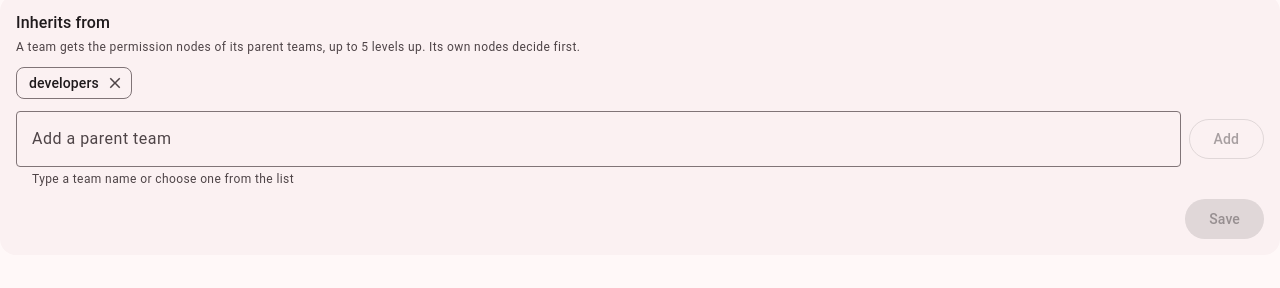
Test: TeamParentsCard › saving › shows the depth message of a 409 on the card
The width and height of the screenshot is (1280, 288).
Type "staff" into the dropdown labelled "Add a parent team" at point(598, 139), box [16, 111, 1181, 167]
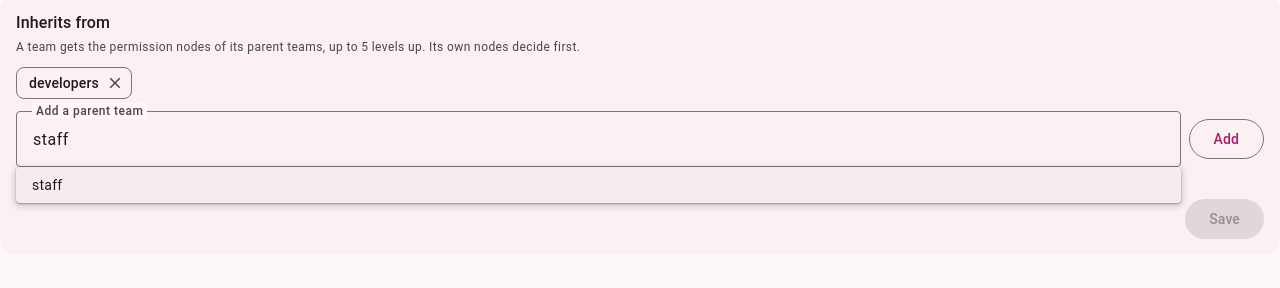
Press Enter in the dropdown labelled "Add a parent team", box [16, 111, 1181, 167]
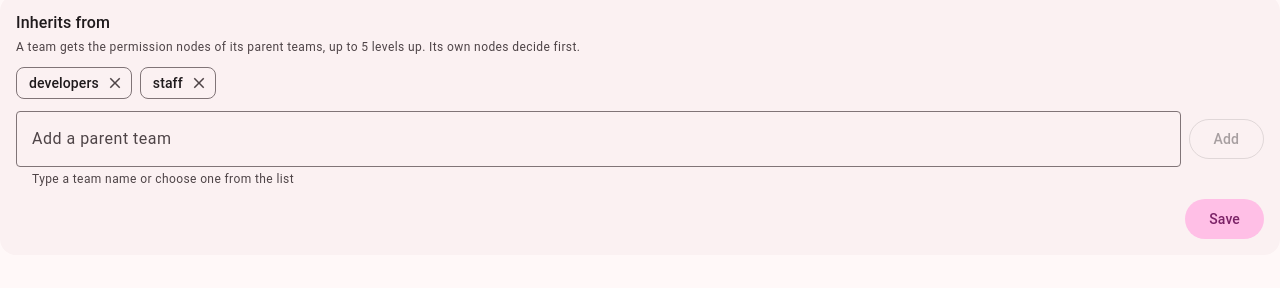
Click the button with test id "save-parents" at point(1225, 219), box [1185, 199, 1264, 239]
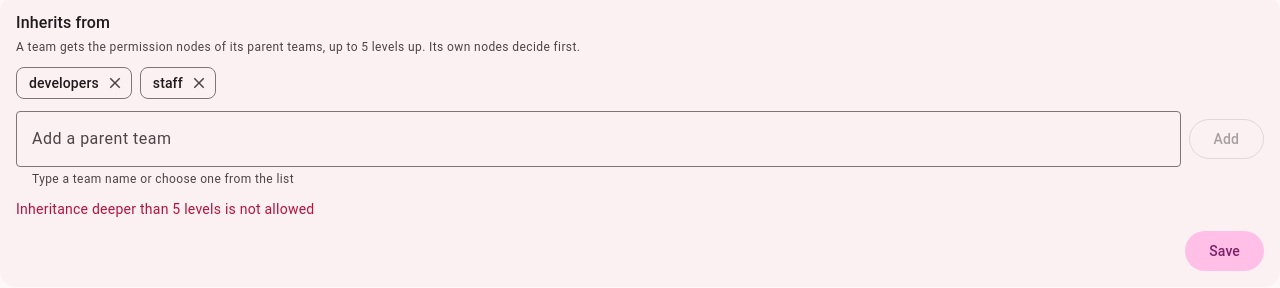
Now the message with test id "parents-error" reads "Inheritance deeper than 5 levels is not allowed", box [16, 201, 314, 217]
